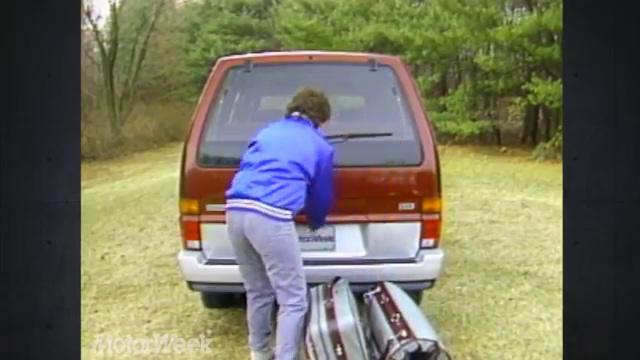van: (178, 47, 445, 294)
